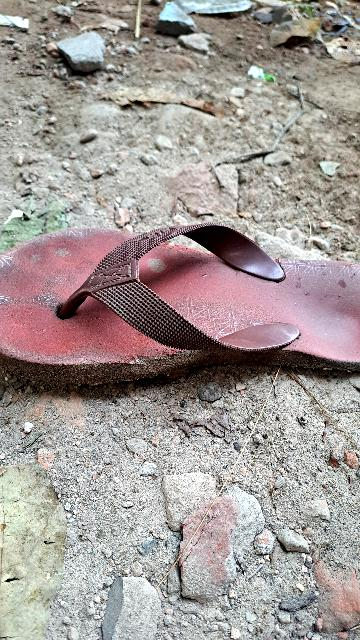sandal: (0, 225, 356, 389)
